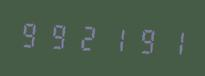nine: (17, 15, 44, 52), (45, 17, 72, 54), (130, 21, 157, 58)
one: (158, 22, 185, 60), (102, 20, 129, 57)
two: (74, 18, 101, 55)
